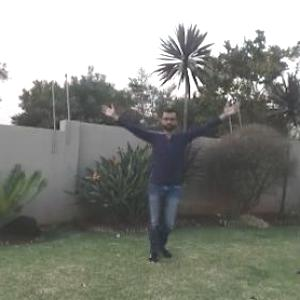takeoff: (98, 100, 259, 266)
